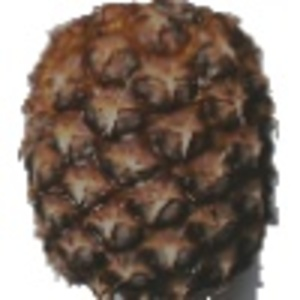abacaxi: (19, 3, 284, 296)
